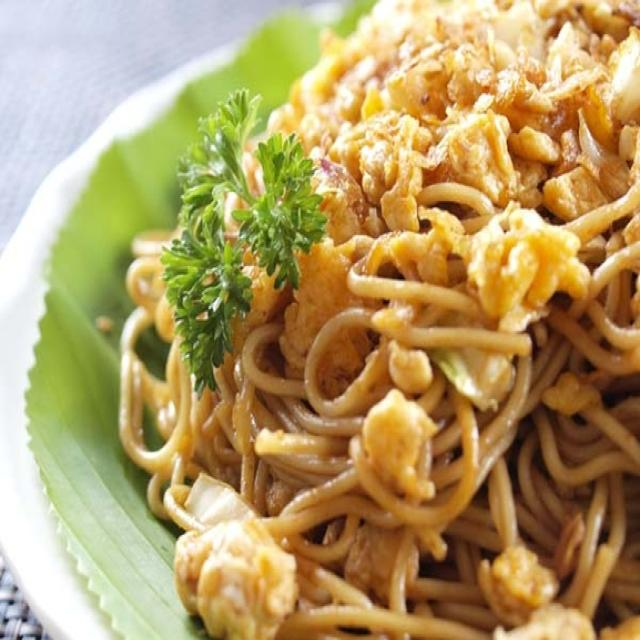面条主食: (41, 18, 621, 597)
